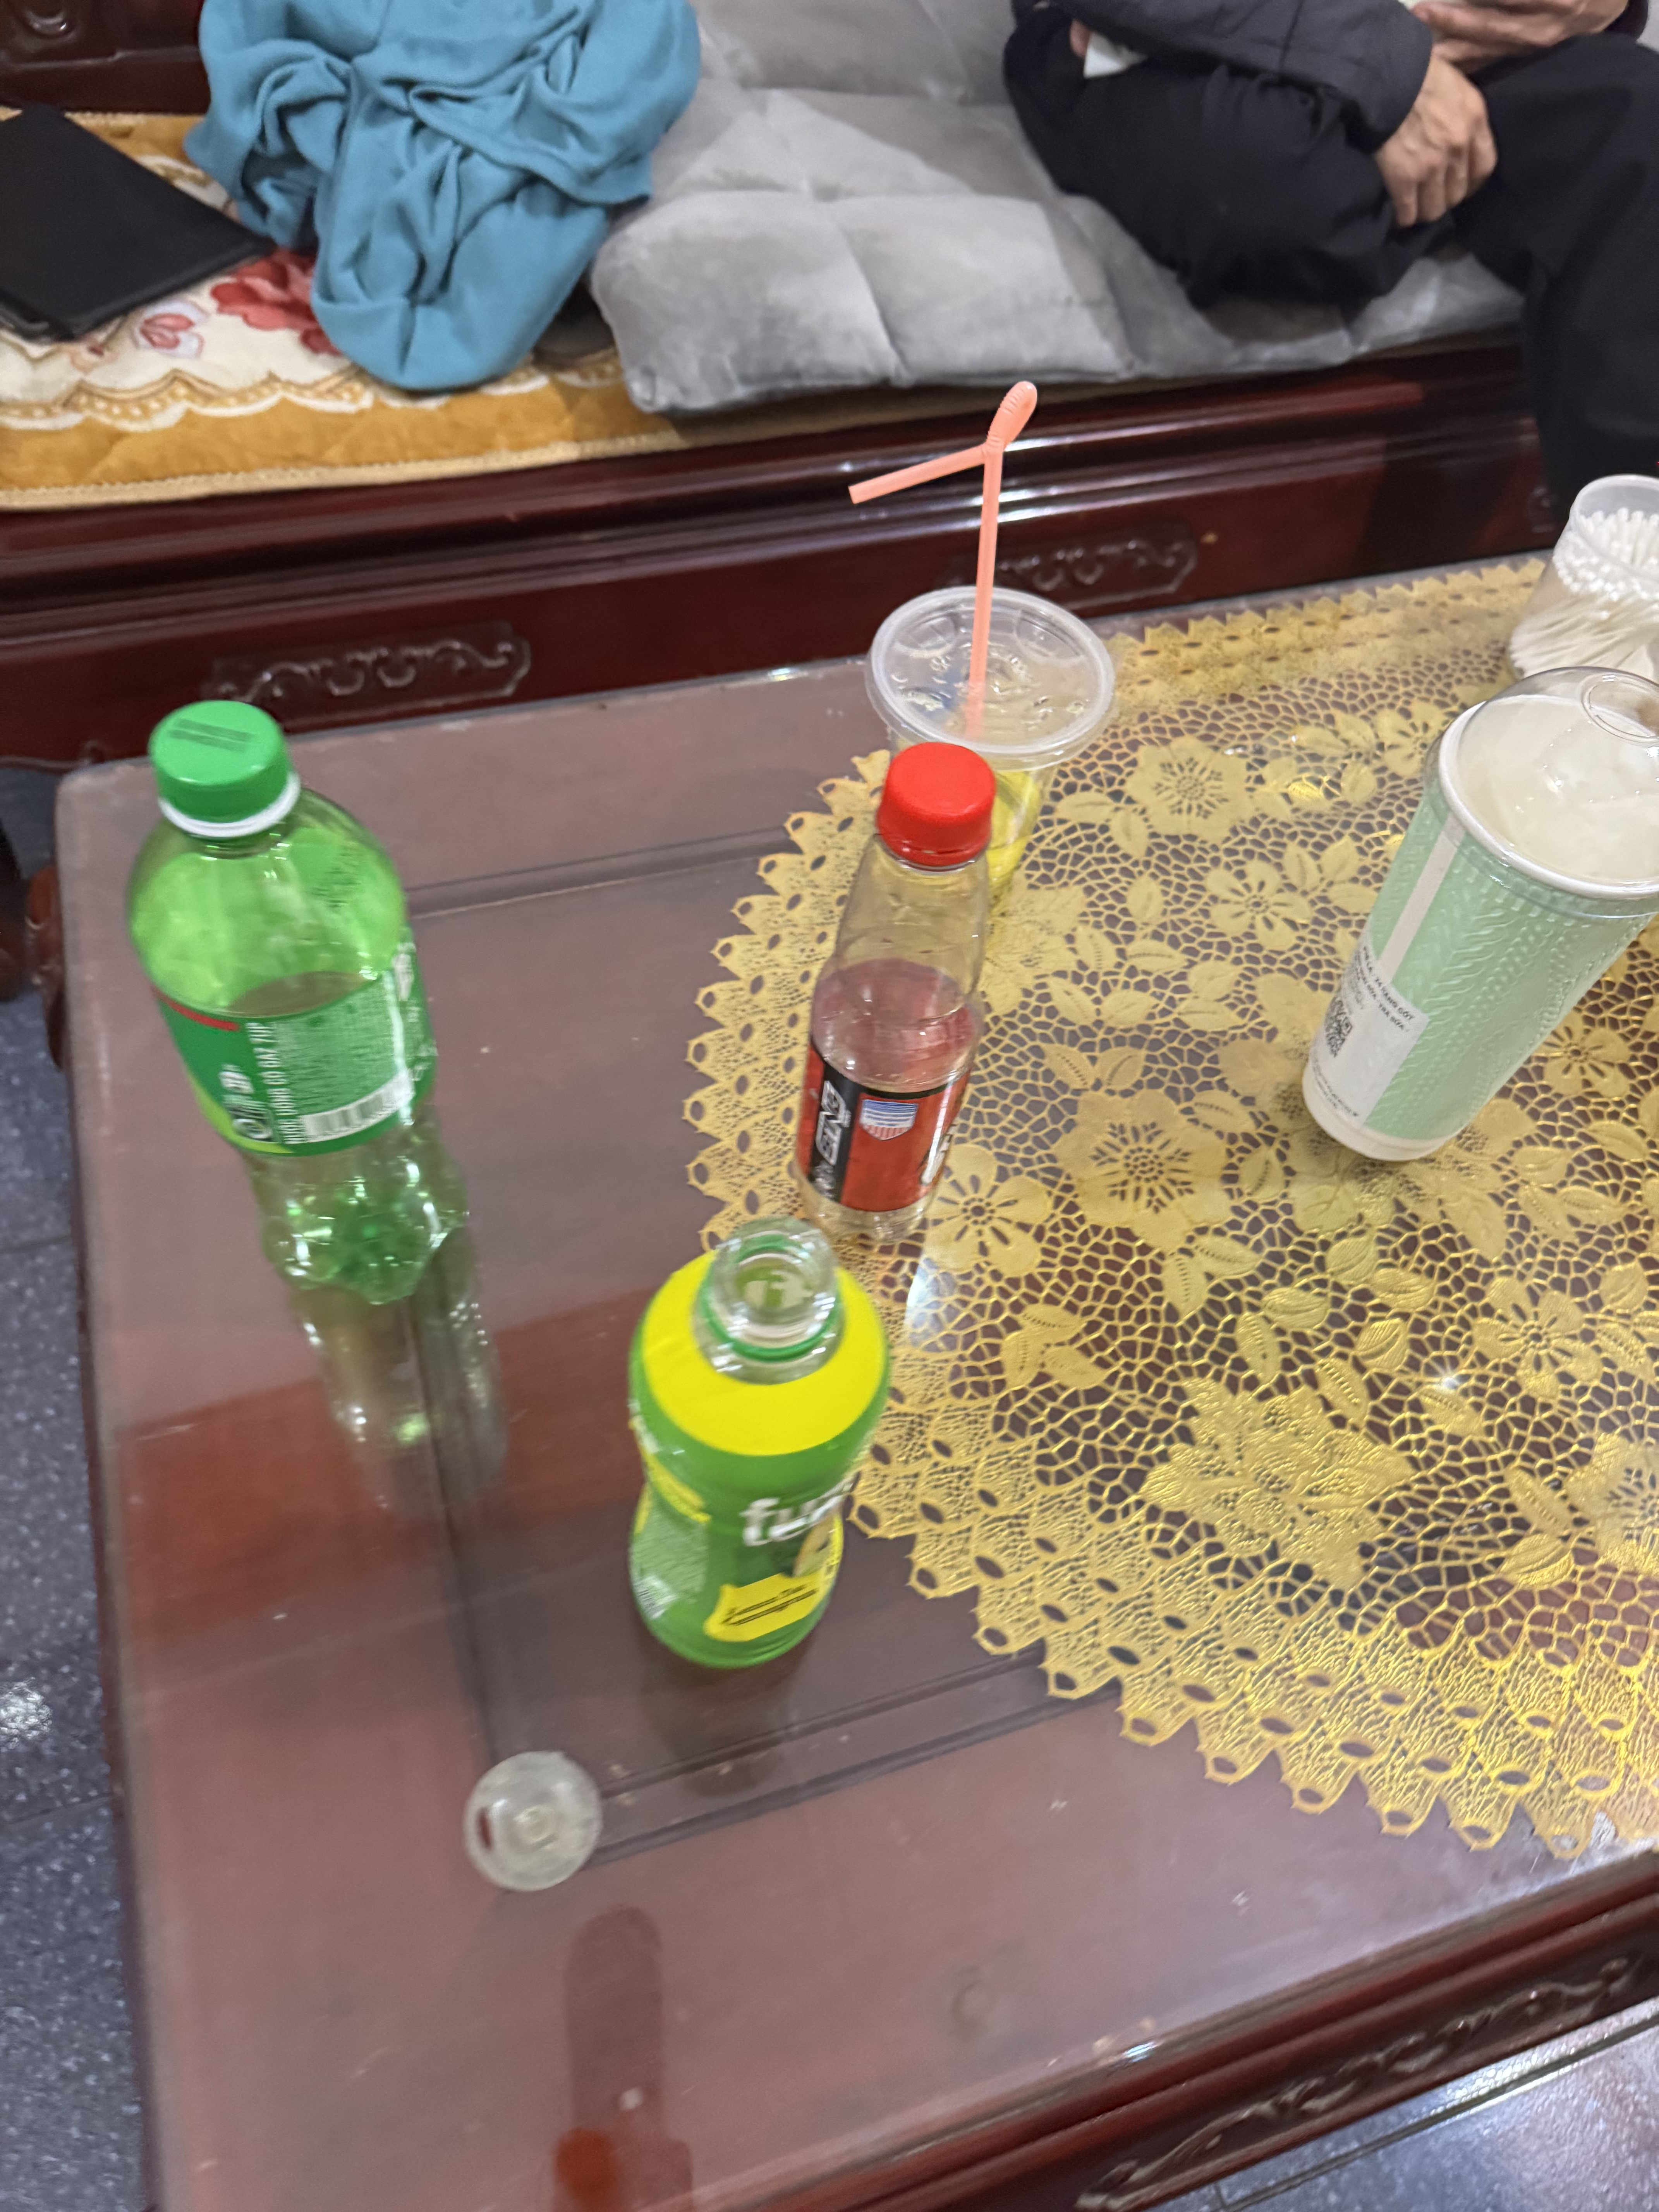2: (1270, 627, 1659, 1237), (816, 531, 1216, 895)
bottle: (71, 658, 535, 1362), (713, 714, 1103, 1291), (592, 1193, 955, 1698)
